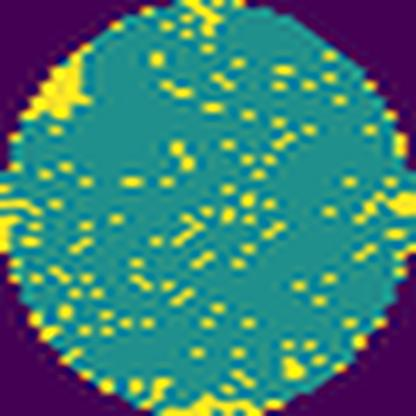Edge-Loc: (12, 47, 106, 131), (141, 373, 307, 416), (0, 186, 54, 263), (376, 183, 416, 231)
